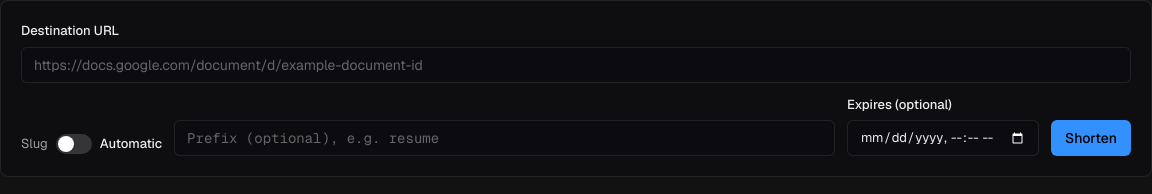
CreateForm slug modes › rejects invalid custom slugs
Step 1. Click the switch named "toggle custom slug" → (74, 144), box [56,134,92,154]
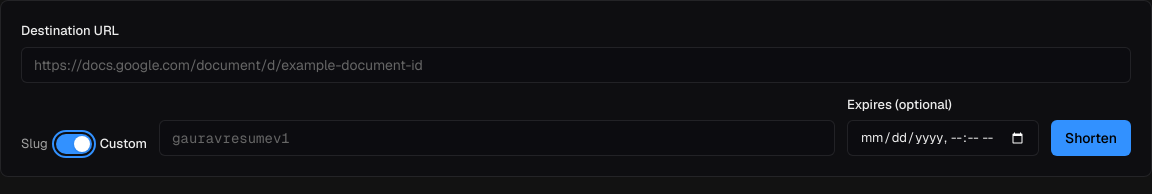
Step 2. Type "https://example.com" into the field labelled "Destination URL" → (576, 64), box [21,46,1131,82]
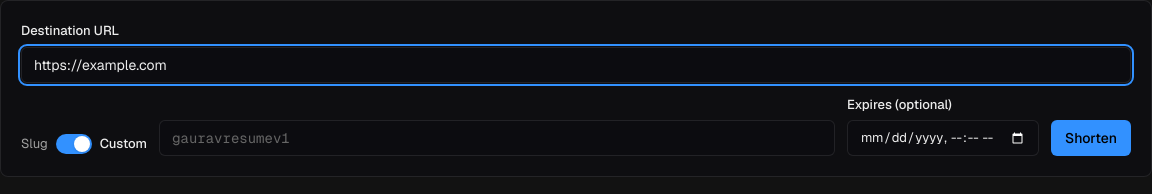
Step 3. Type "INVALID SLUG" into the field named "Custom slug" → (497, 138), box [159,120,835,156]
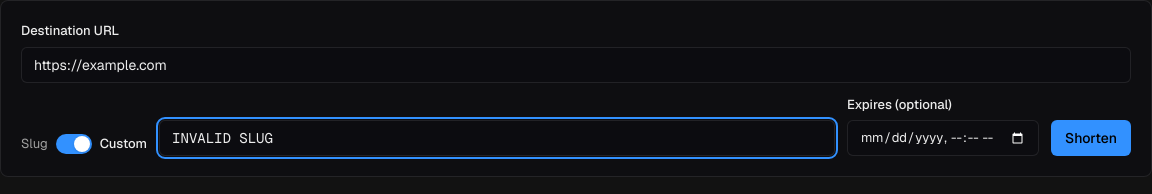
Step 4. Click the button "Shorten" → (1091, 138), box [1051,120,1131,156]
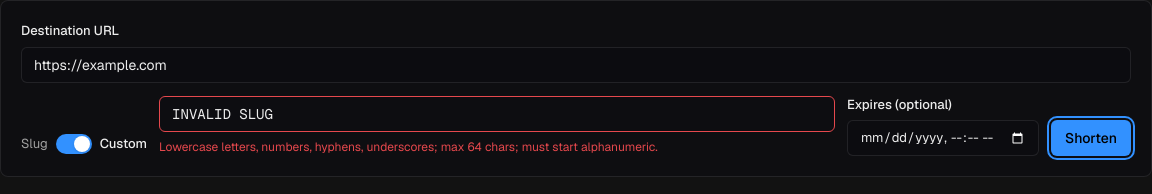
Expected: the text "Lowercase letters, numbers, hyphens" is shown, [159,139,658,155]
